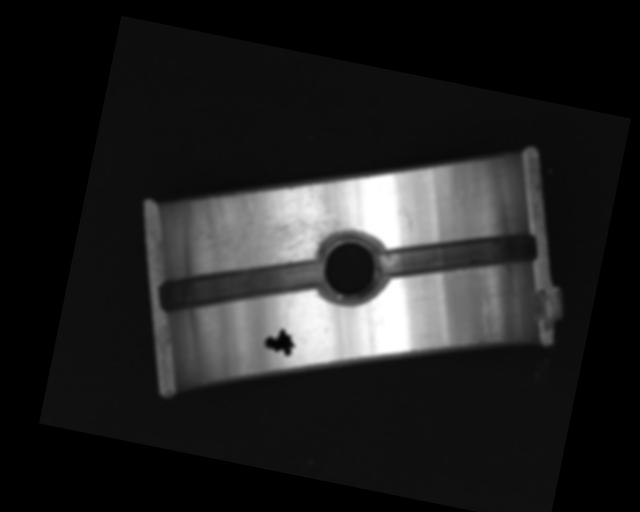blot: (261, 323, 300, 359)
gap: (159, 233, 323, 339), (376, 205, 539, 302)
hole: (308, 224, 392, 315)
nick: (472, 297, 498, 342)
scratch: (180, 146, 364, 298)
